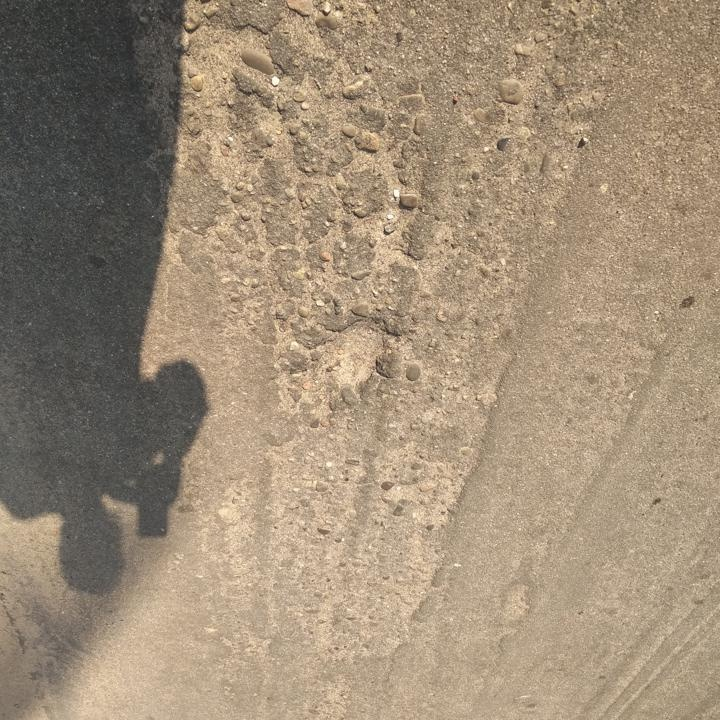pothole: (304, 312, 398, 396)
